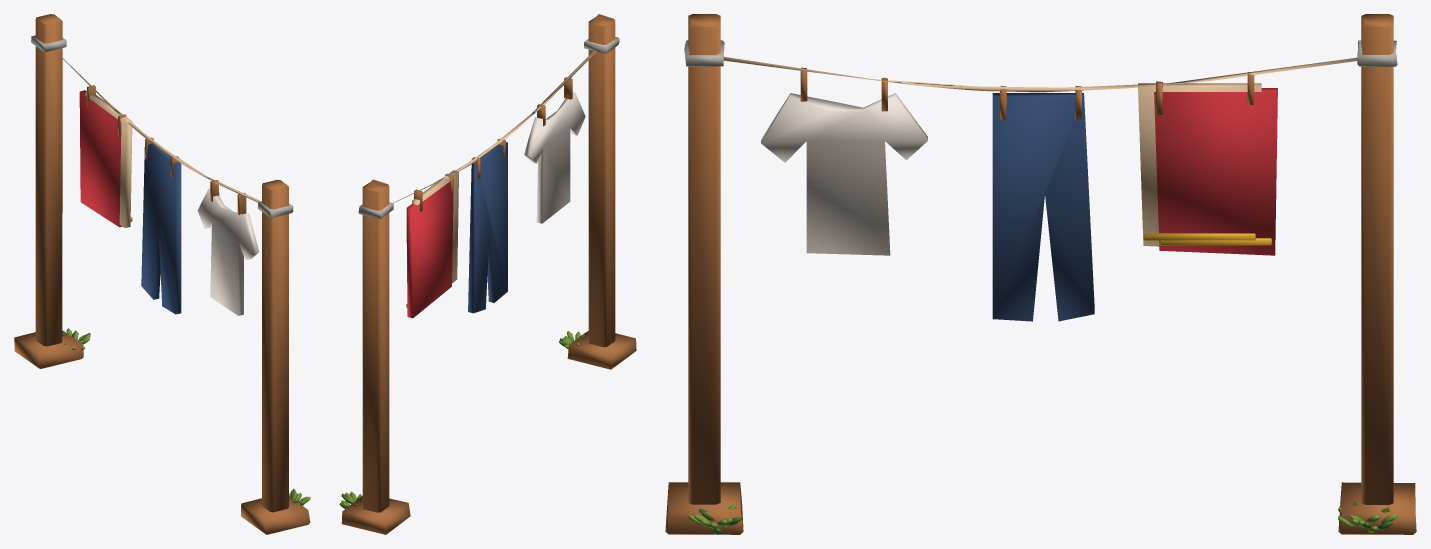
3 views of the same model, side by side, from view 1: azimuth 30°, elevation 25°; view 2: azimuth 150°, elevation 25°; view 3: azimuth 270°, elevation 25° (orthographic). The views are drawn at different scales.
Size of the model in its own units: 0.3835 by 2.06 by 2.79.
